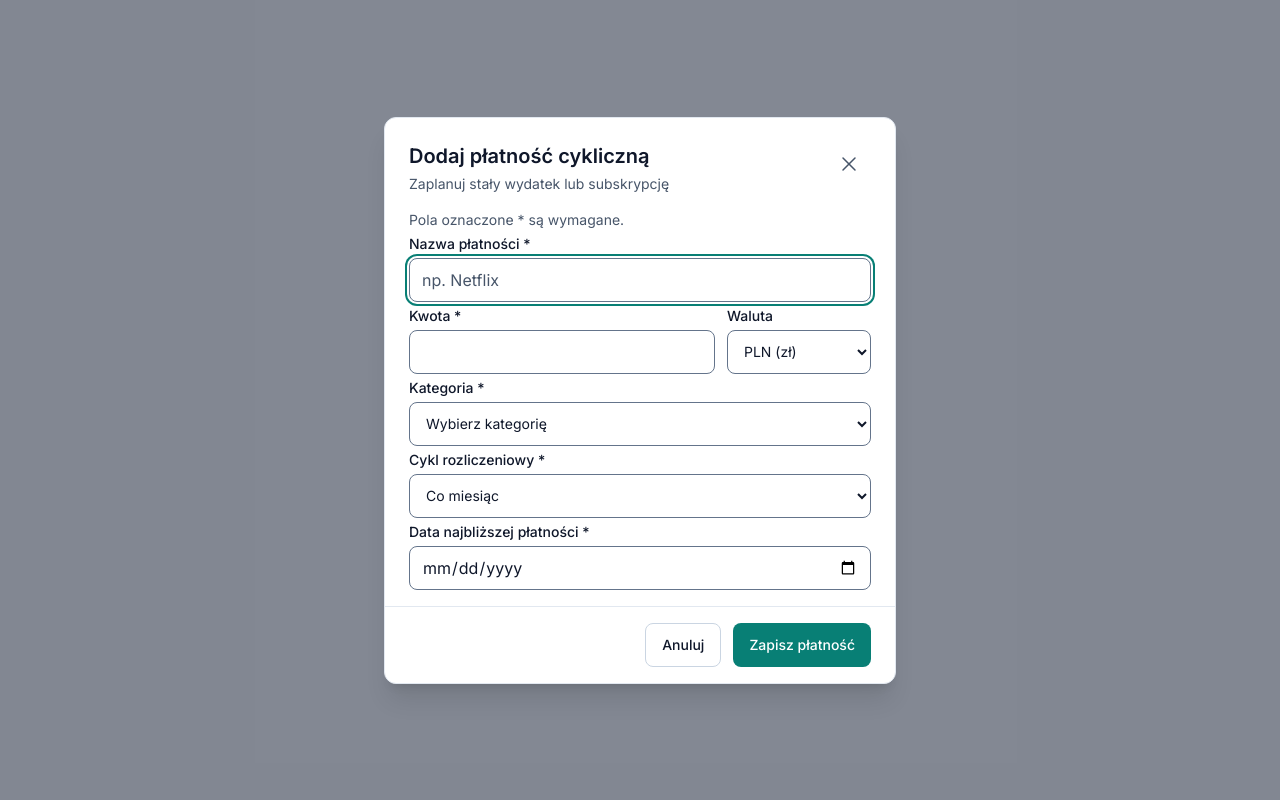
it: RecurringPaymentDialog › shows 400 field errors at the fields, focuses the first and keeps the values
This screenshot has width=1280, height=800.
In the field labelled "Nazwa płatności *": (640, 280) [409, 258, 871, 302], type "Netflix"
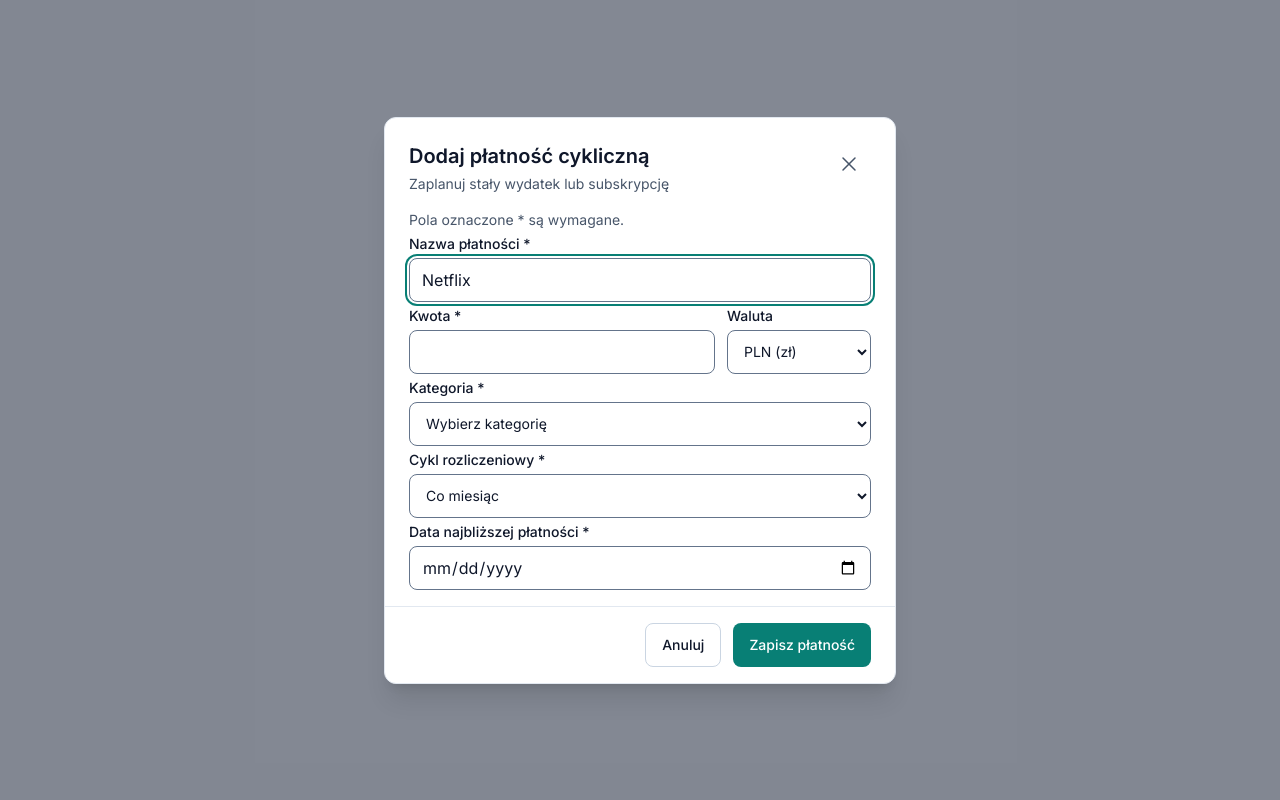
In the field labelled "Kwota *": (562, 352) [409, 330, 715, 374], type "43"
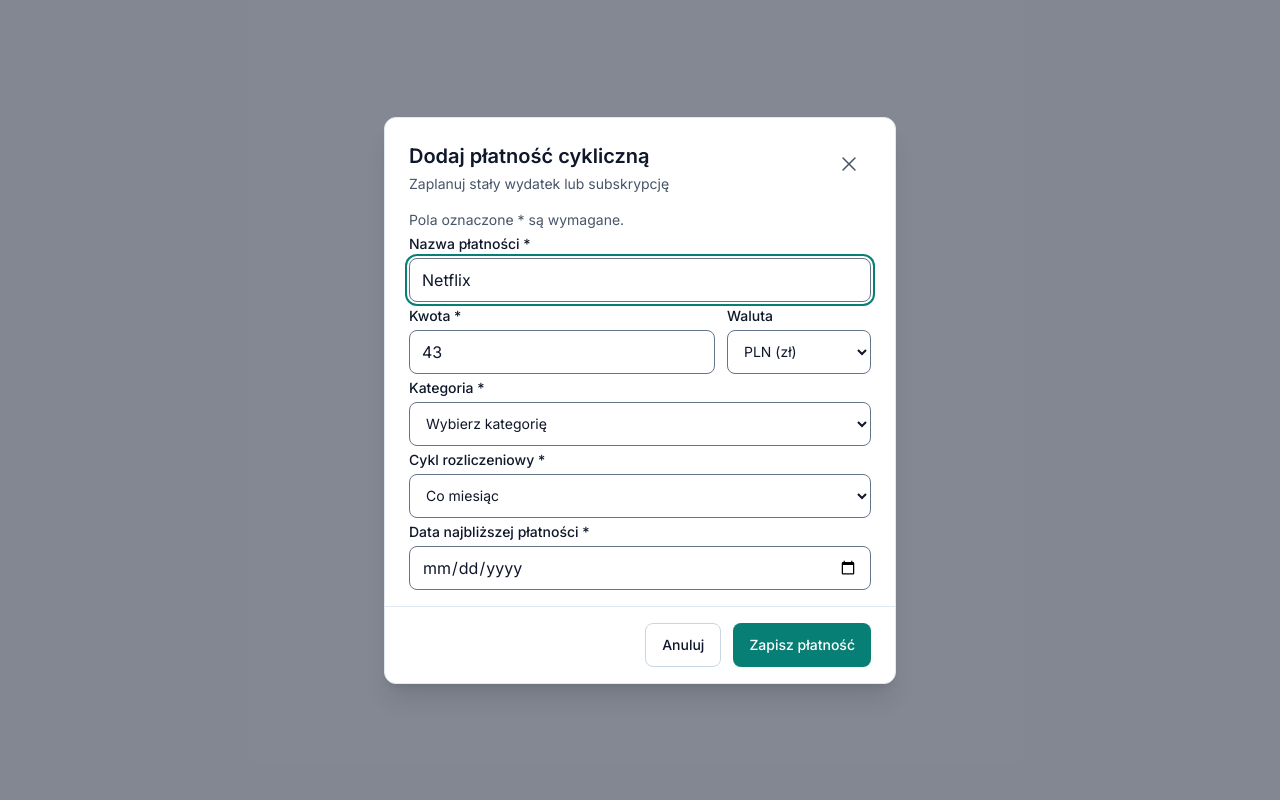
Select "Rozrywka" in the dropdown labelled "Kategoria *": (640, 424) [409, 402, 871, 446]
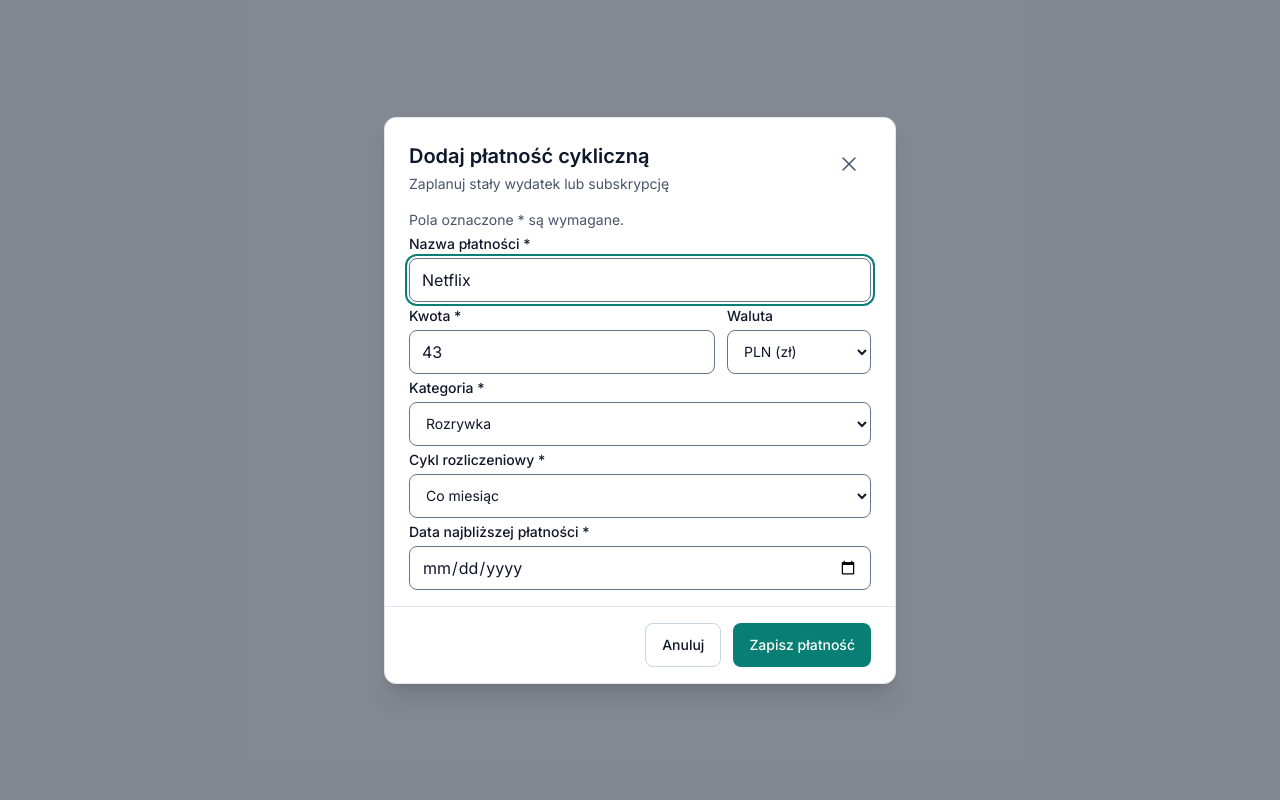
In the date field labelled "Data najbliższej płatności *": (640, 568) [409, 546, 871, 590], type "2026-12-01"
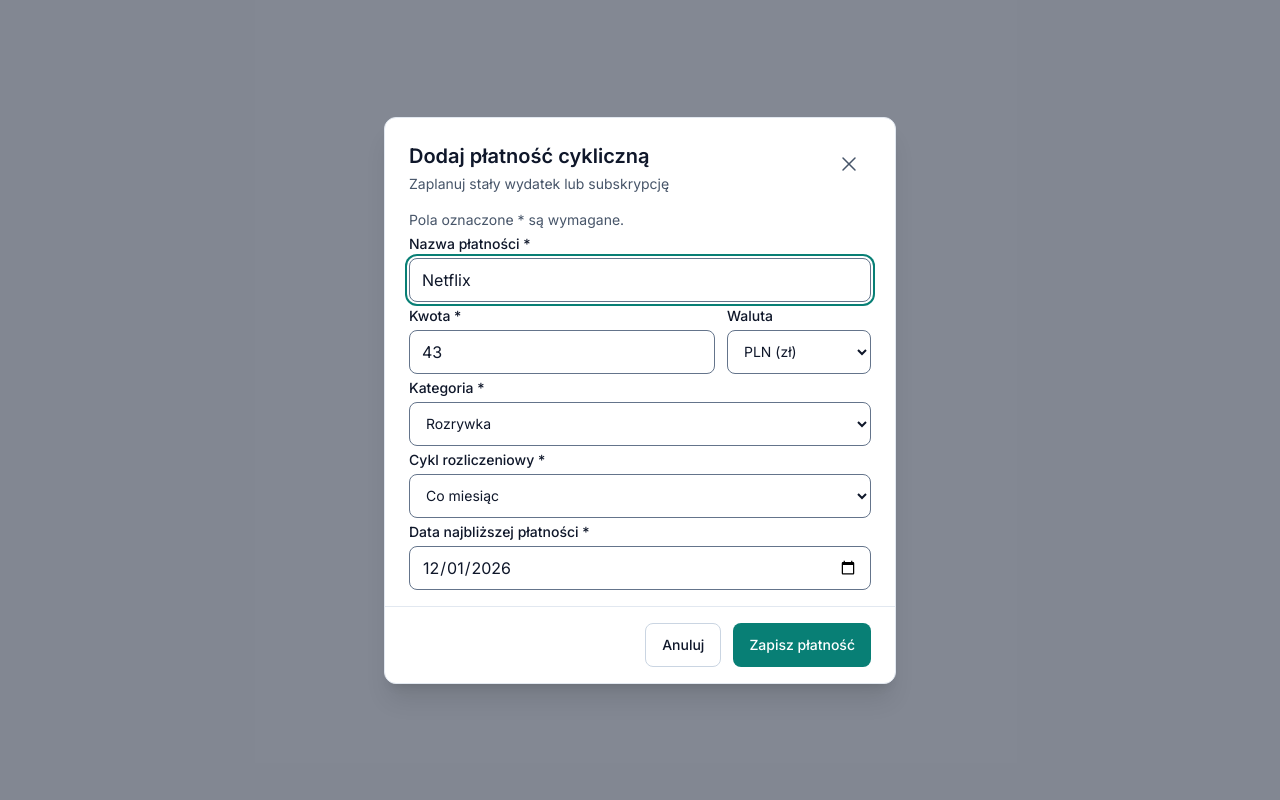
Click the button "Zapisz płatność": (802, 644) [733, 622, 871, 666]
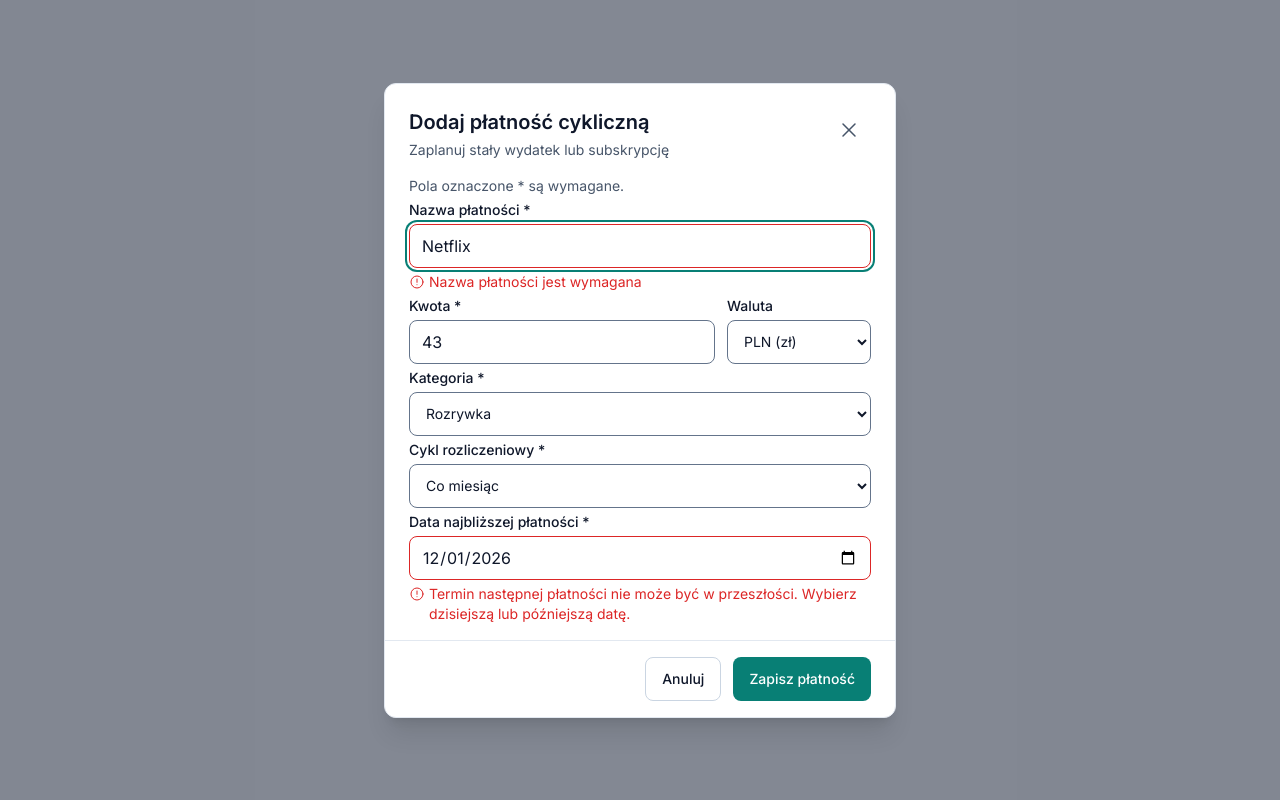
Check: the dialog "Dodaj płatność cykliczną" is shown, box [384, 82, 896, 718]
Check: the messages read "Nazwa płatności jest wymagana", "Termin następnej płatności nie może być w przeszłości. Wybierz dzisiejszą lub późniejszą datę.", in this order, box [409, 272, 642, 290]; [409, 584, 871, 624]
